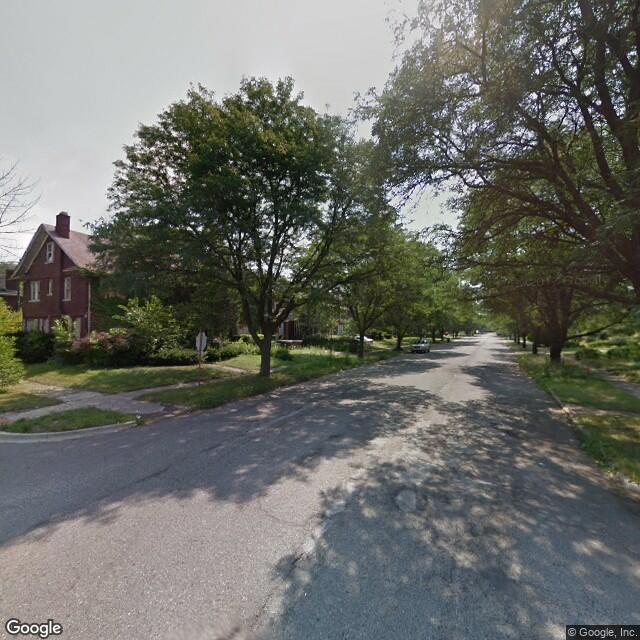litter: (538, 460, 547, 467), (228, 406, 236, 412), (136, 413, 141, 419)
